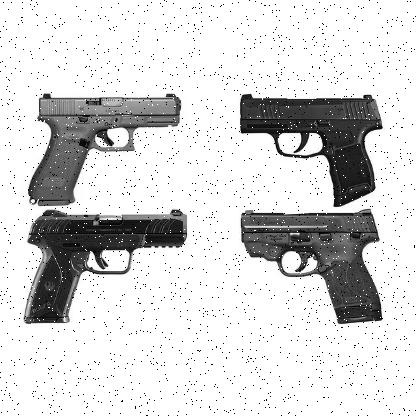gun: (20, 210, 188, 324), (26, 92, 184, 206), (238, 90, 382, 208), (240, 207, 384, 321)
